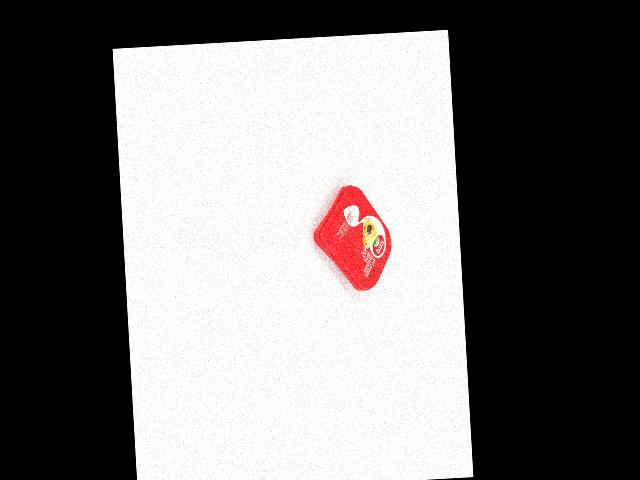cheese: (310, 182, 394, 293)
